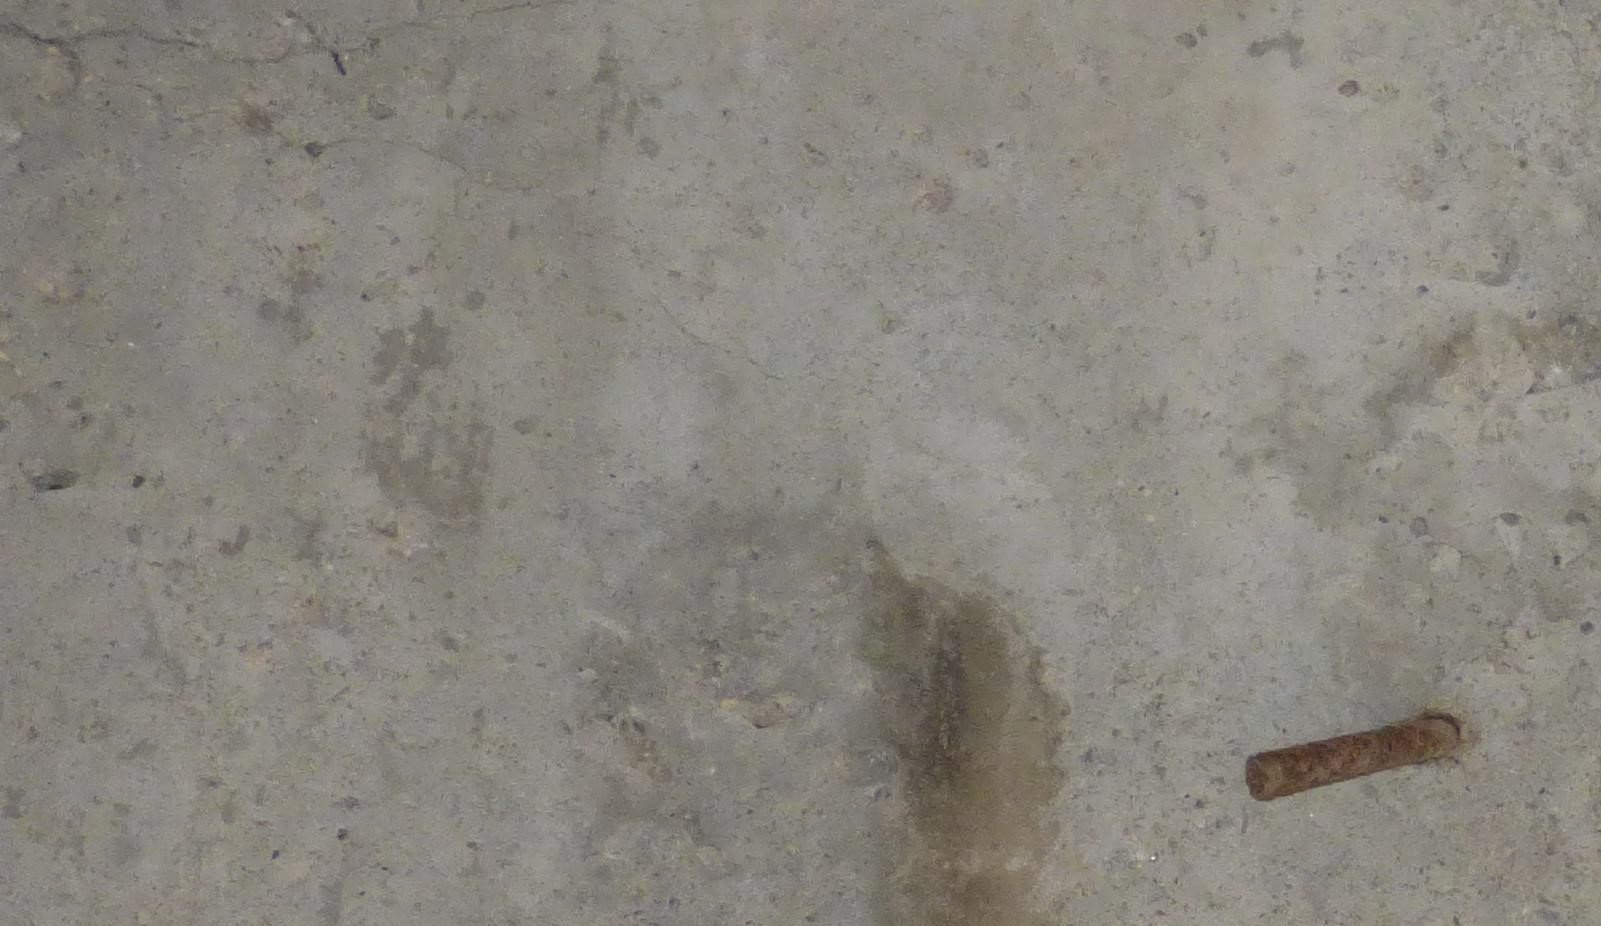Corrosion: (857, 532, 1069, 926)
Exposed reinforcement: (1244, 718, 1458, 803)
